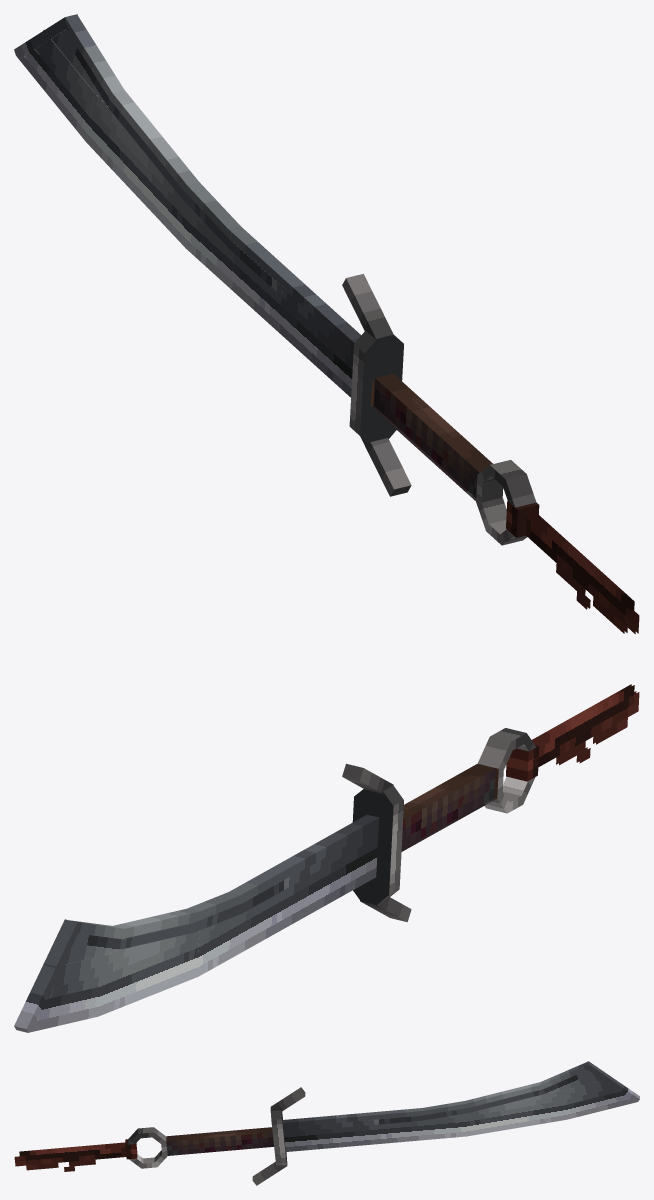
The model's file is broadblade.glb.
The picture shows the model from 3 angles, top to bottom: view 1: azimuth 30°, elevation 25°; view 2: azimuth 150°, elevation 25°; view 3: azimuth 270°, elevation 25°; orthographic projection. The views are drawn at different scales.
Visible parts, largest first — view 1: off__Tool_L, main__Tool_R; view 2: off__Tool_L, main__Tool_R; view 3: main__Tool_R, off__Tool_L.
Boxes of the visible parts, <box> form: off__Tool_L: <box>14,16,636,633</box>; main__Tool_R: <box>68,14,639,633</box>; off__Tool_L: <box>17,685,639,1032</box>; main__Tool_R: <box>14,684,636,1031</box>; main__Tool_R: <box>14,1062,639,1185</box>; off__Tool_L: <box>125,1061,639,1176</box>.
Size of the model in its own units: 0.1011 by 0.5841 by 2.74.
Materials: 1 (1 with a texture image).
